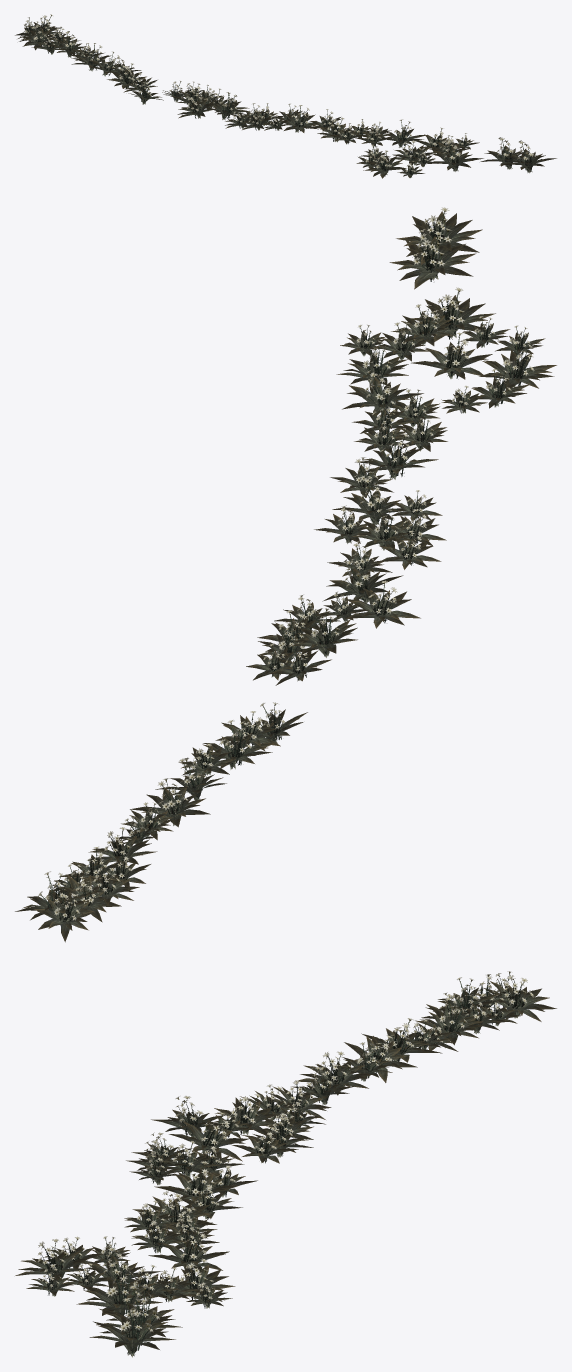
File: grass23.fbx
3 views of the same model, one above another, from view 1: azimuth 30°, elevation 25°; view 2: azimuth 150°, elevation 25°; view 3: azimuth 330°, elevation 25° (orthographic). The views are drawn at different scales.
Parts seen in each view (by area): view 1: m121211_0; view 2: m121211_0; view 3: m121211_0.
Part boxes in pixels (x1,y1,x2,y2): m121211_0: (15, 14, 556, 178); m121211_0: (15, 207, 556, 942); m121211_0: (15, 971, 556, 1357).
Size of the model in its own units: 42313 by 26310 by 144287.
1 material, 1 textured.
